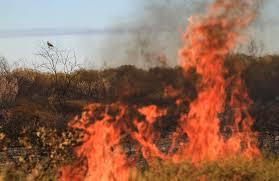fire: (57, 95, 262, 181), (163, 0, 255, 115)
smoke: (85, 1, 193, 103)
